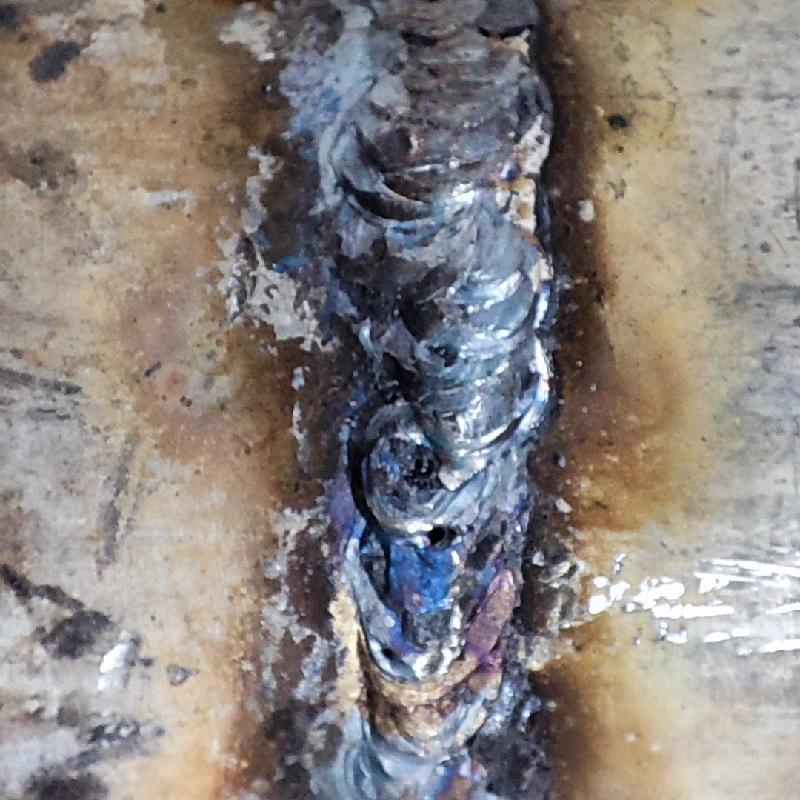Surface_pores: (411, 512, 459, 557), (366, 633, 409, 680)
